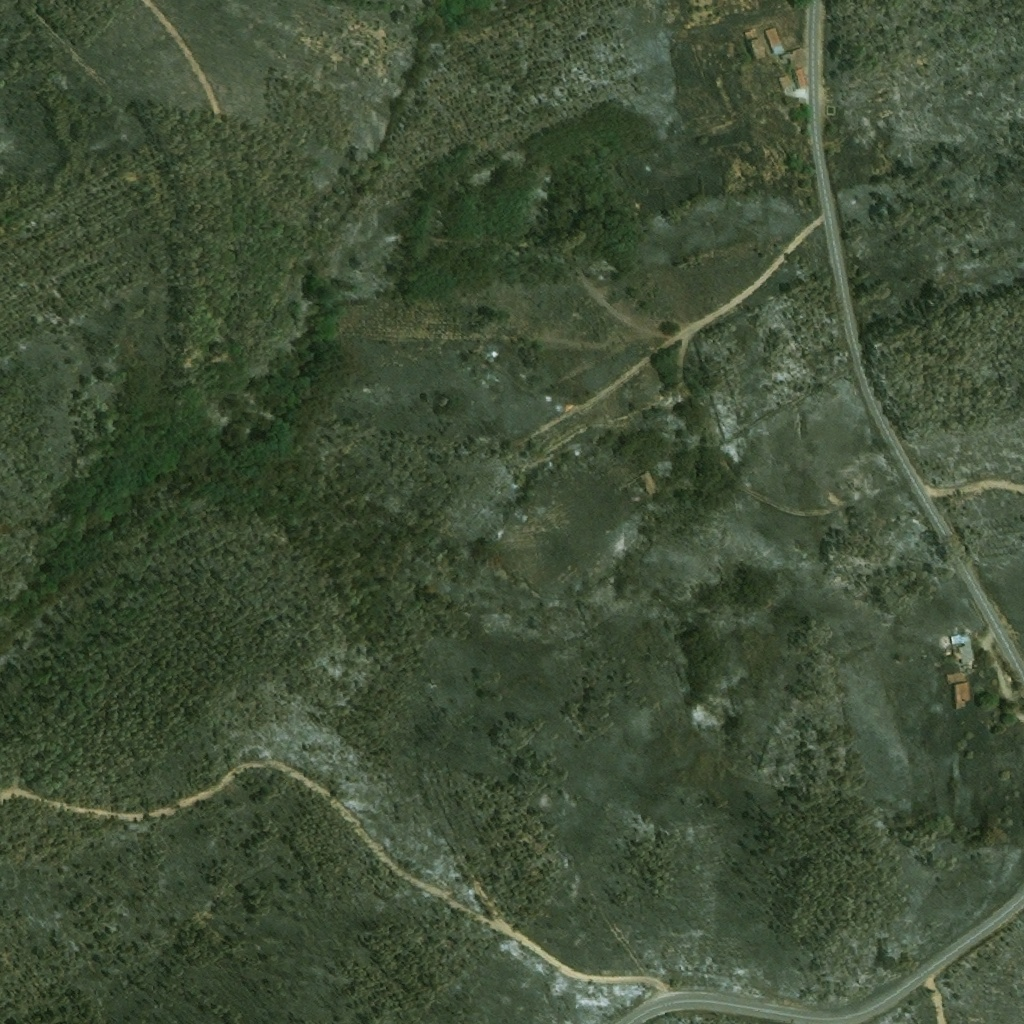0 no-damage: (764, 27, 785, 55), (955, 682, 969, 710), (794, 68, 809, 88), (779, 75, 794, 91), (947, 673, 963, 683)
1 minor-damage: (946, 629, 976, 671), (744, 29, 762, 59)
